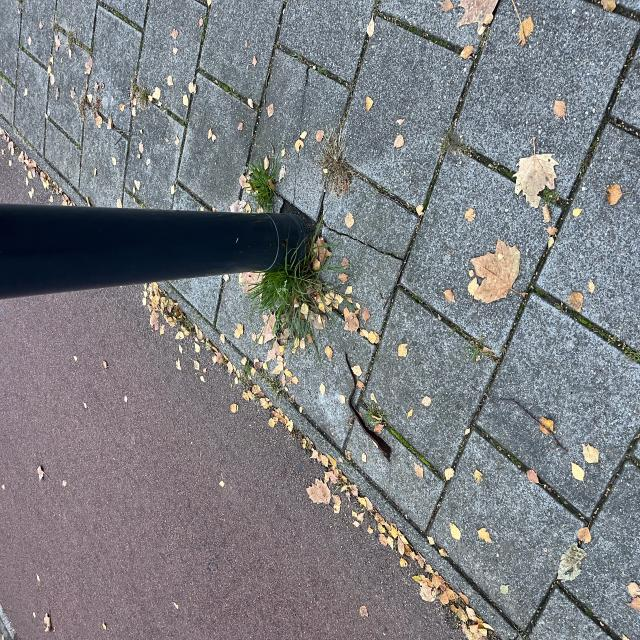leaves: (5, 184, 262, 640), (251, 627, 304, 640)
pavement: (333, 11, 477, 326), (69, 11, 152, 378), (0, 0, 61, 486), (171, 21, 231, 227)
weed: (228, 344, 302, 440), (326, 332, 362, 370)
